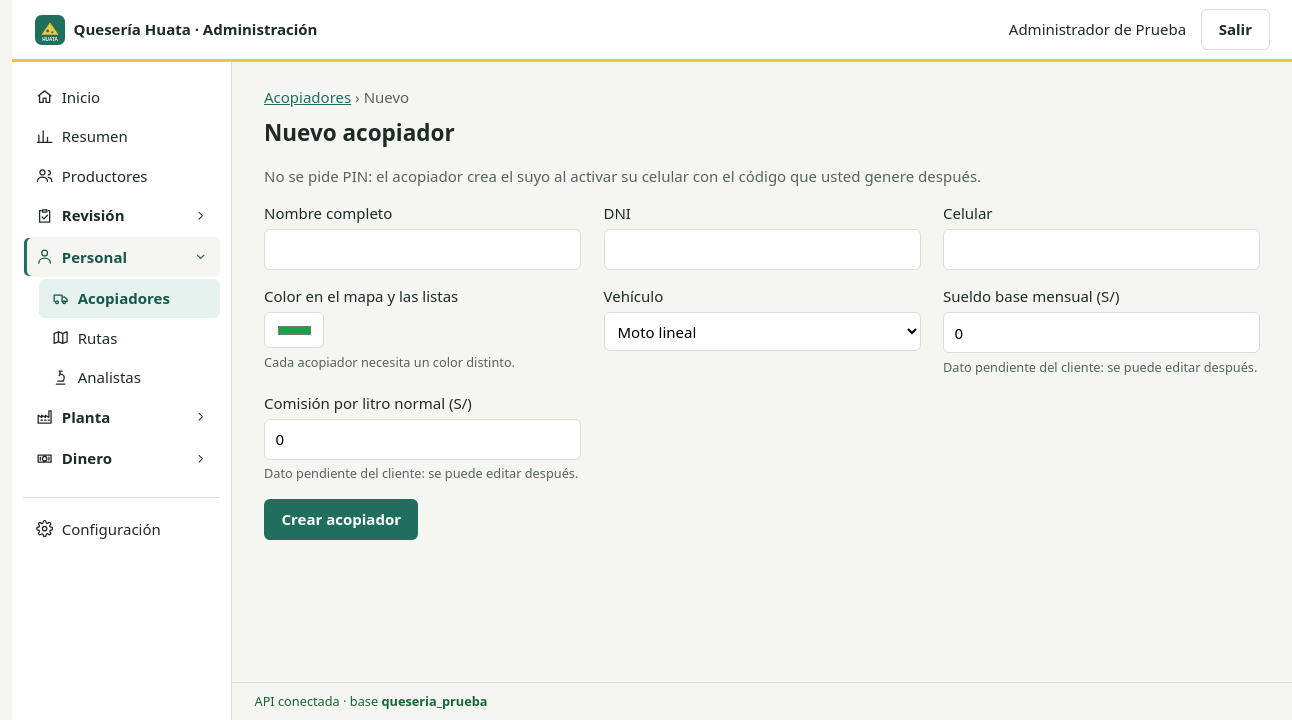
Test: nuevo acopiador › envía exactamente los datos y va al detalle con el aviso de pendiente de activar
In the field labelled "Nombre completo": {"x": 422, "y": 250} [264,229,581,270], type "  Ana Quispe Flores  "
In the field labelled "DNI": {"x": 762, "y": 250} [604,229,920,270], type "45678912"
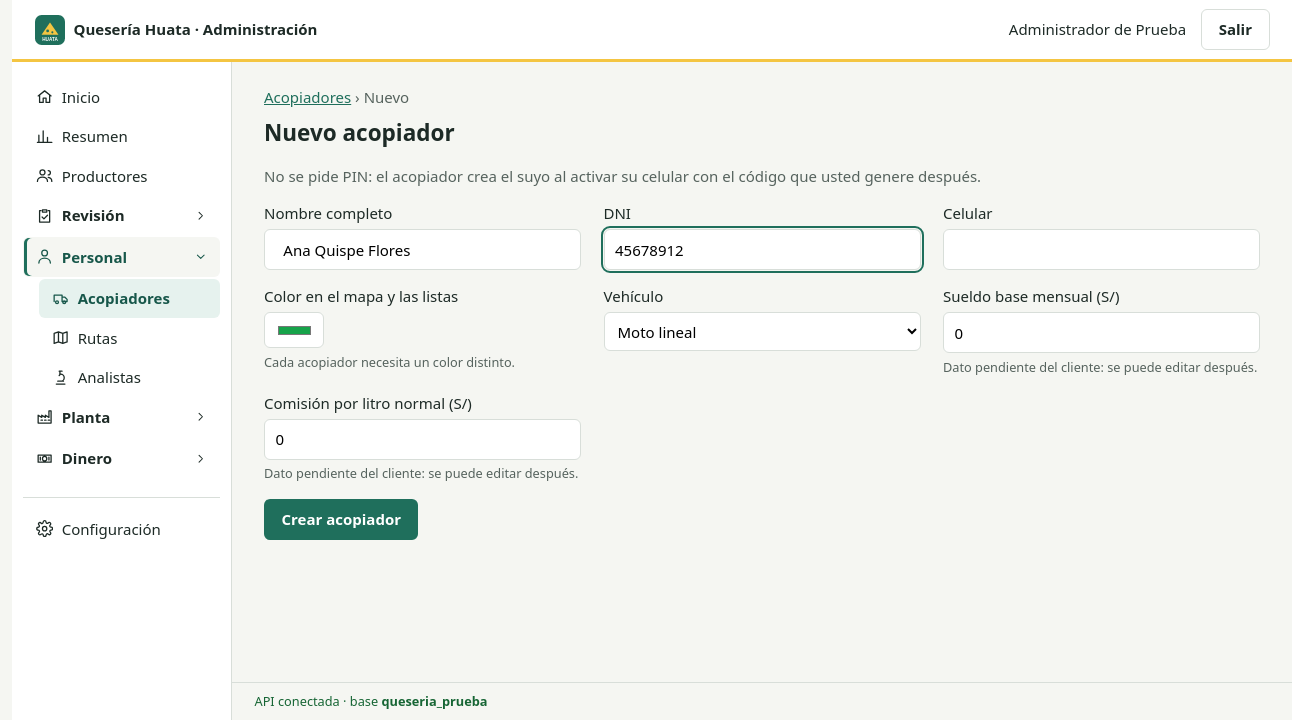
In the field labelled "Celular": {"x": 1102, "y": 250} [943,229,1260,270], type "987654321"
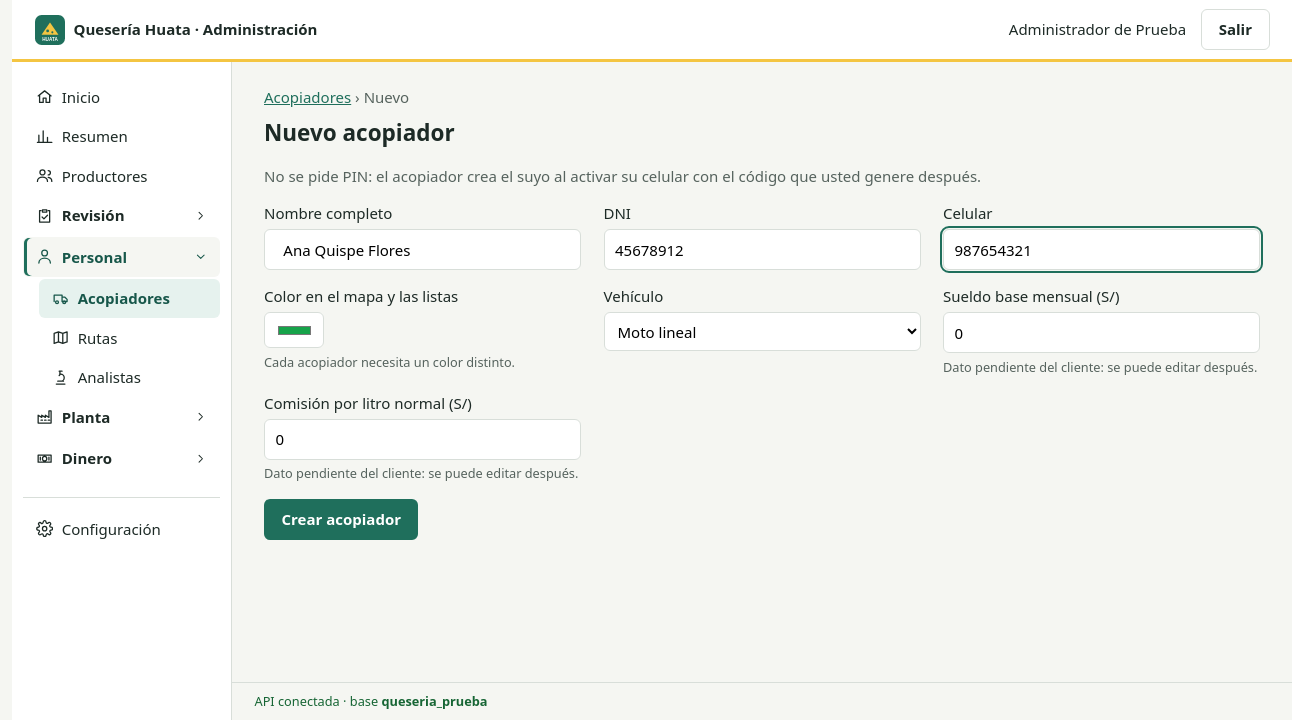
Select "Motocarga" in the dropdown labelled "Vehículo": {"x": 762, "y": 332} [604,312,920,351]
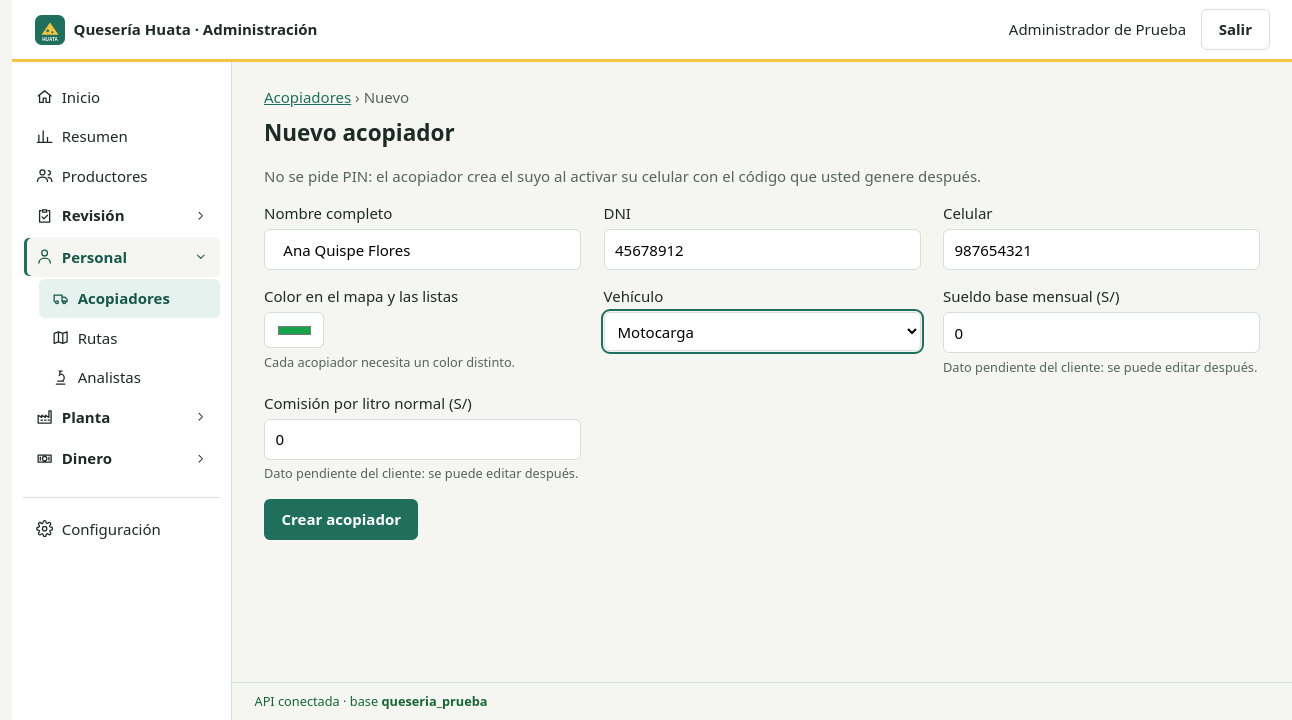
Replace the text in the field labelled "Sueldo base mensual (S/)" with "850.5": {"x": 1102, "y": 333} [943,312,1260,353]
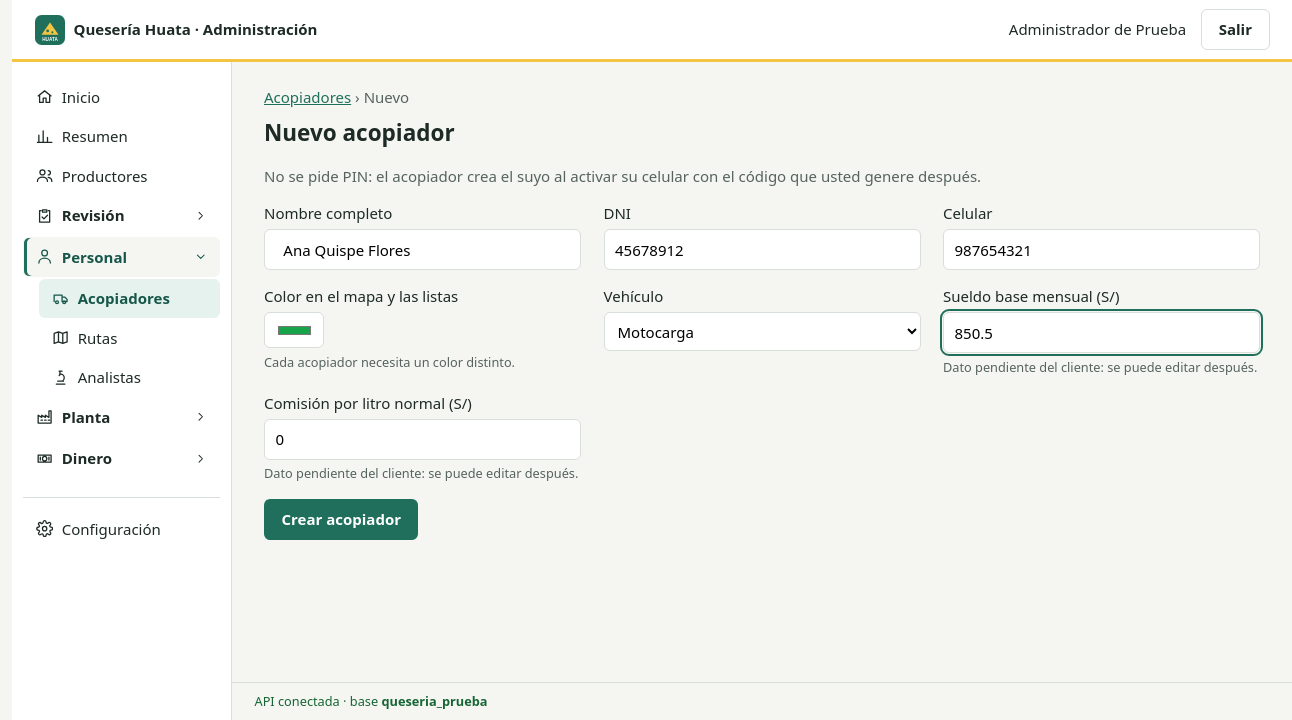
Replace the text in the field labelled "Comisión por litro normal (S/)" with "0.045": {"x": 422, "y": 439} [264,419,581,460]
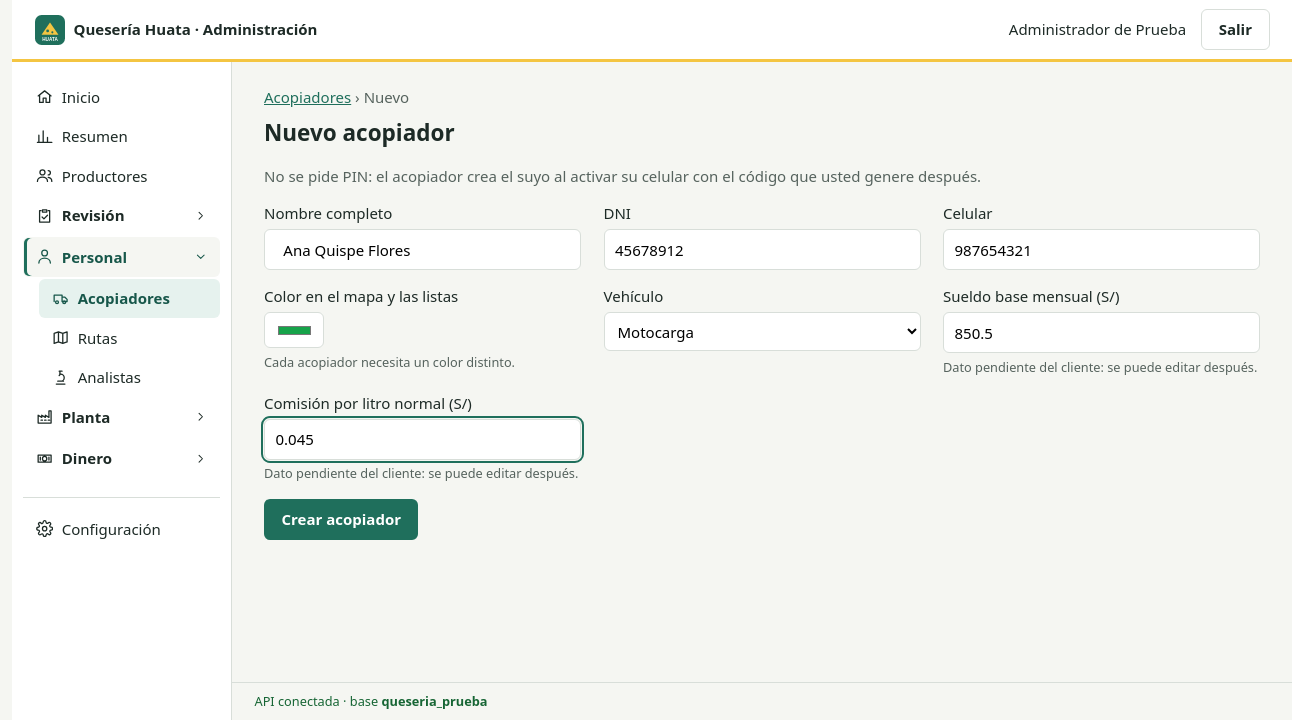
Click the button "Crear acopiador": {"x": 341, "y": 519} [264,498,418,540]
(page scrolled)
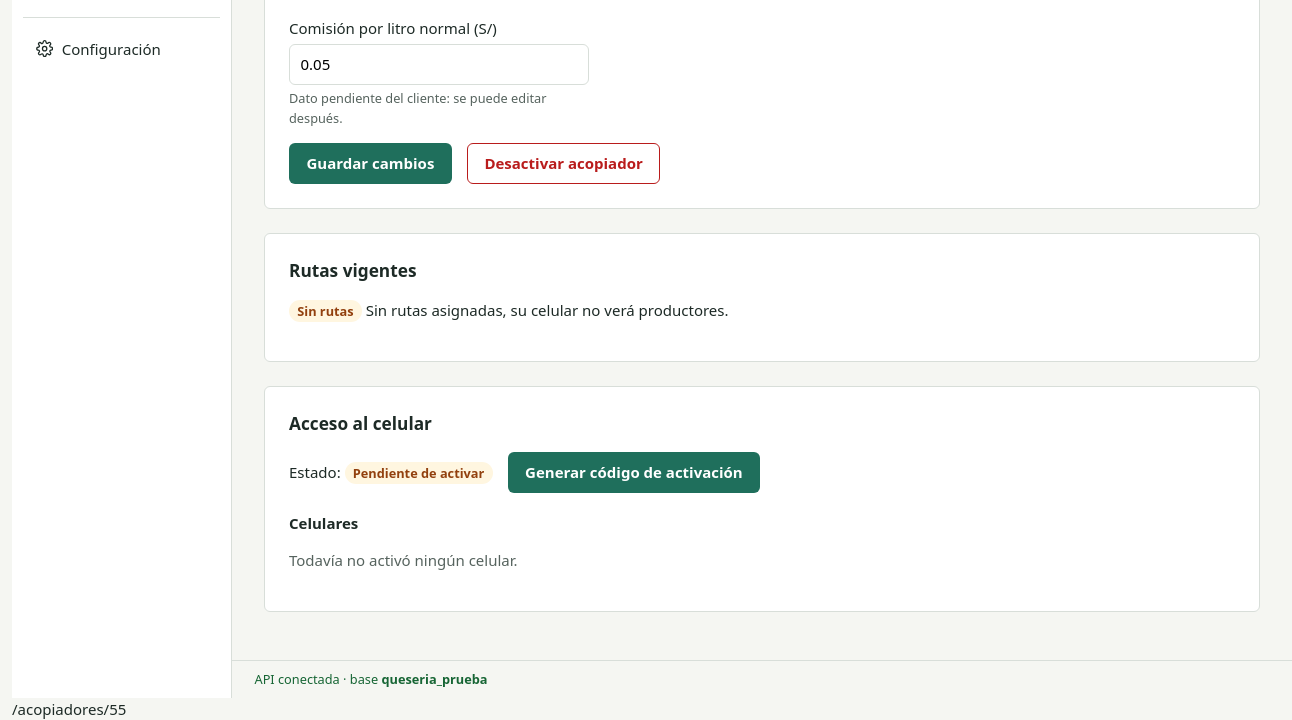
expect the text with test id "ubicacion" reads "/acopiadores/55": met, box [12,699,126,719]
expect the text "Pendiente de activar" is shown: met, box [345,462,493,484]
